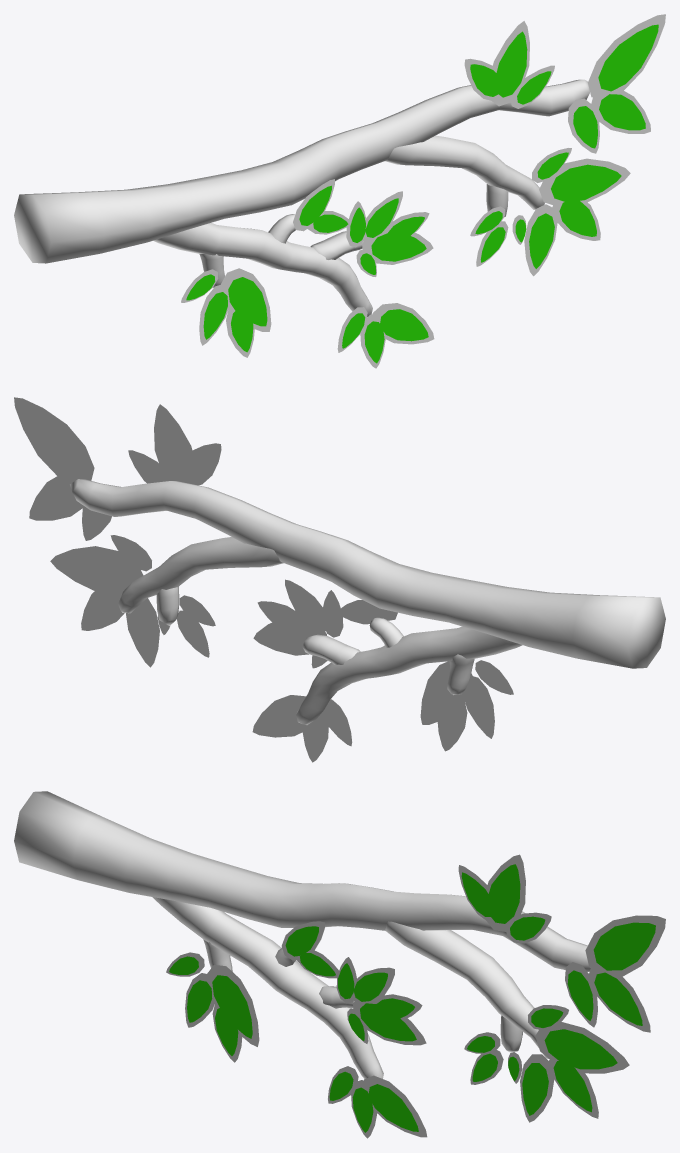
The model's file is PlatformBranch.fbx.
3 views of the same model, one above another, from view 1: azimuth 30°, elevation 25°; view 2: azimuth 150°, elevation 25°; view 3: azimuth 330°, elevation 25° (orthographic). The views are drawn at different scales.
Visible parts, largest first — view 1: Cube, Plane.001; view 2: Cube, Plane.001; view 3: Cube, Plane.001.
Part boxes in pixels (x1=…): Cube: x1=14, y1=79, x2=589, y2=316; Plane.001: x1=181, y1=14, x2=665, y2=368; Cube: x1=70, y1=479, x2=665, y2=724; Plane.001: x1=14, y1=397, x2=513, y2=762; Cube: x1=14, y1=791, x2=590, y2=1078; Plane.001: x1=166, y1=854, x2=665, y2=1138.
Bounding box in the file's own units: 625 × 298 × 64.81.
